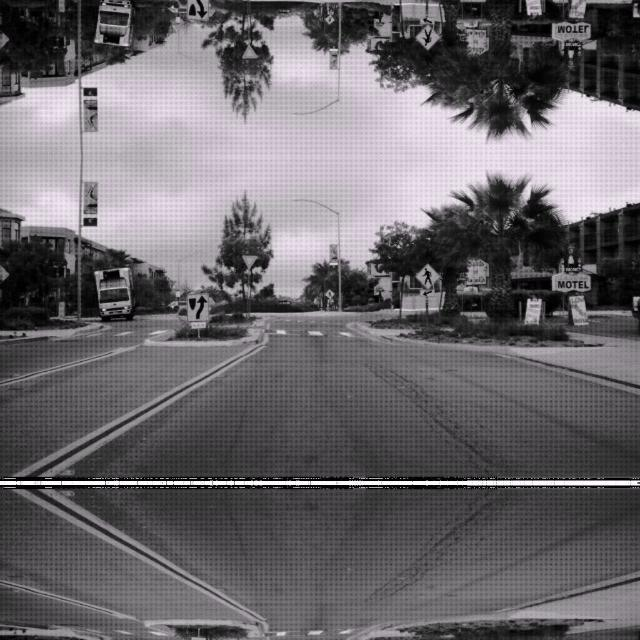pedestrianCrossing: (414, 24, 440, 51), (414, 262, 440, 288), (324, 286, 334, 298), (324, 14, 334, 26)
yield: (241, 252, 257, 268), (241, 44, 257, 60)
